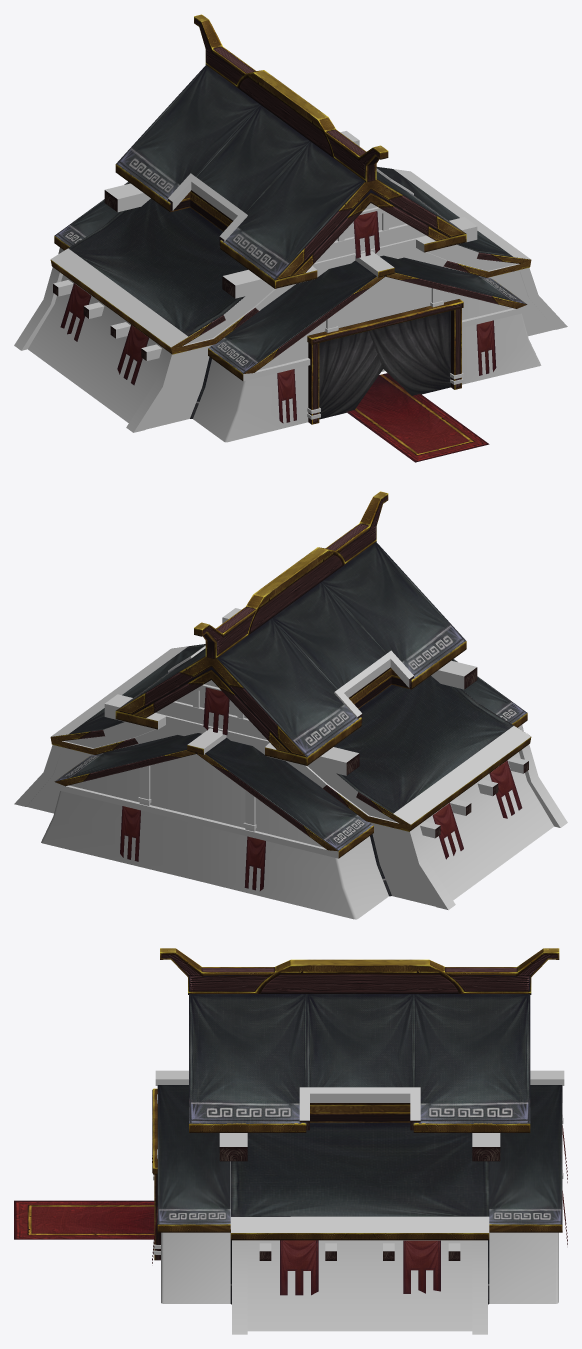
File: SV_BUD_forest_qinzhangpeng_0.FBX
3 renders of one model, top to bottom at view 1: azimuth 30°, elevation 25°; view 2: azimuth 150°, elevation 25°; view 3: azimuth 270°, elevation 25°, orthographic. The views are drawn at different scales.
Visible parts, largest first — view 1: SV_BUD_forest_qinzhangpeng_0_ding, SV_BUD_forest_qinzhangpeng_0_di, SV_BUD_forest_qinzhangpeng_0_qizhi; view 2: SV_BUD_forest_qinzhangpeng_0_ding, SV_BUD_forest_qinzhangpeng_0_di, SV_BUD_forest_qinzhangpeng_0_qizhi; view 3: SV_BUD_forest_qinzhangpeng_0_ding, SV_BUD_forest_qinzhangpeng_0_di, SV_BUD_forest_qinzhangpeng_0_qizhi.
Boxes of the visible parts, box(x1,y1,x2,y2) form: SV_BUD_forest_qinzhangpeng_0_ding: box(50, 14, 531, 462); SV_BUD_forest_qinzhangpeng_0_di: box(14, 131, 567, 442); SV_BUD_forest_qinzhangpeng_0_qizhi: box(60, 211, 496, 423); SV_BUD_forest_qinzhangpeng_0_ding: box(50, 491, 531, 896); SV_BUD_forest_qinzhangpeng_0_di: box(14, 608, 567, 919); SV_BUD_forest_qinzhangpeng_0_qizhi: box(120, 687, 522, 890); SV_BUD_forest_qinzhangpeng_0_ding: box(14, 948, 562, 1304); SV_BUD_forest_qinzhangpeng_0_di: box(153, 1070, 564, 1334); SV_BUD_forest_qinzhangpeng_0_qizhi: box(152, 1125, 567, 1295).
Bounding box in the file's own units: 20.37 × 11.32 × 20.99.
